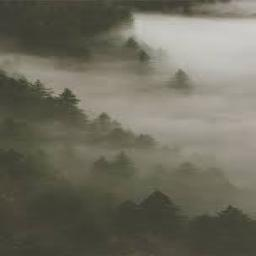Heavy smoke: (116, 2, 256, 144)
Low smoke: (3, 42, 113, 157), (117, 148, 256, 227)
